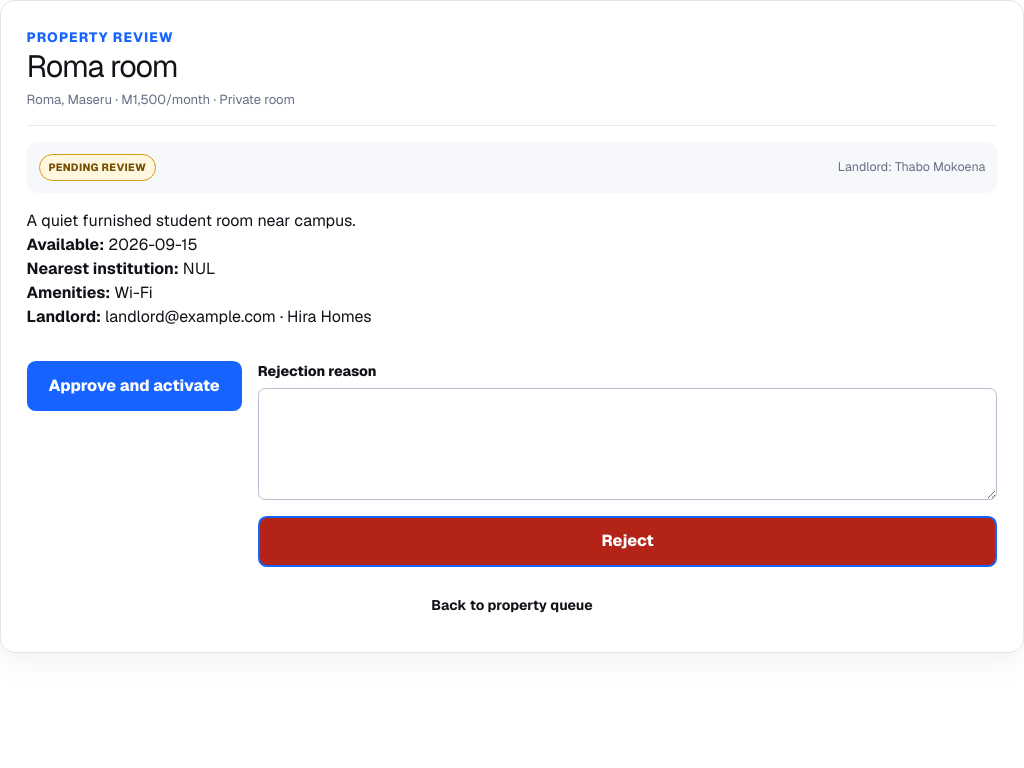
AdminPropertyReview › requires and sends a rejection reason
In the text box labelled "Rejection reason": (628, 444) left=258, top=388, right=997, bottom=500, type "Add clearer photos."
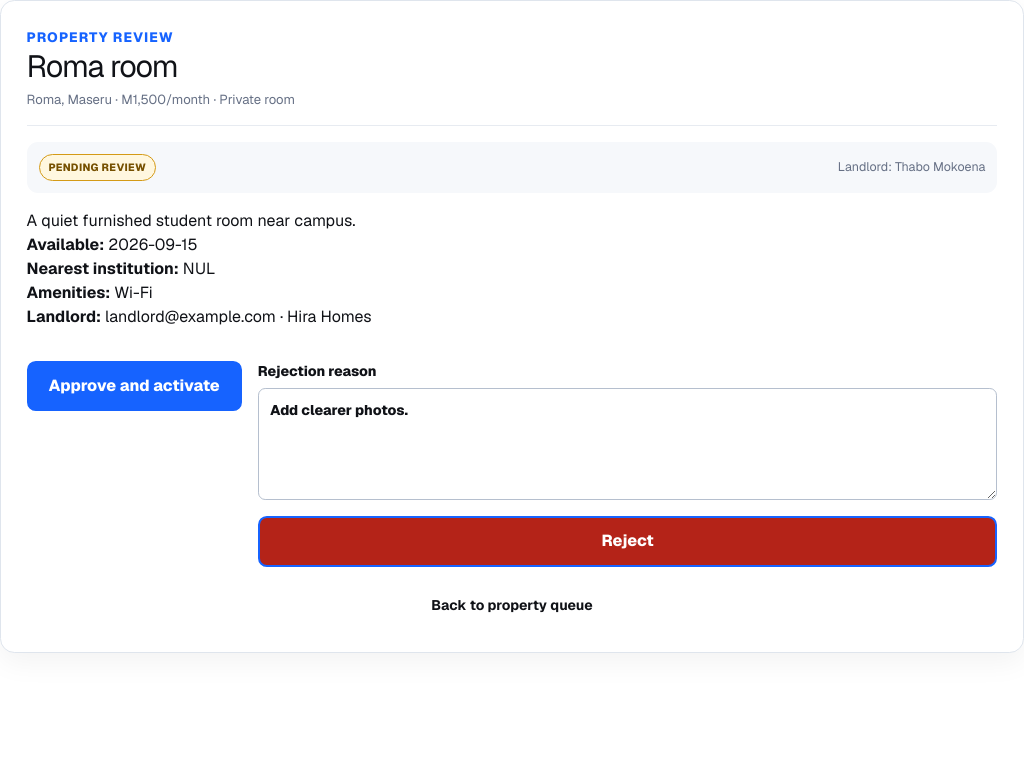
Click the button "Reject": (628, 541) left=258, top=516, right=997, bottom=567
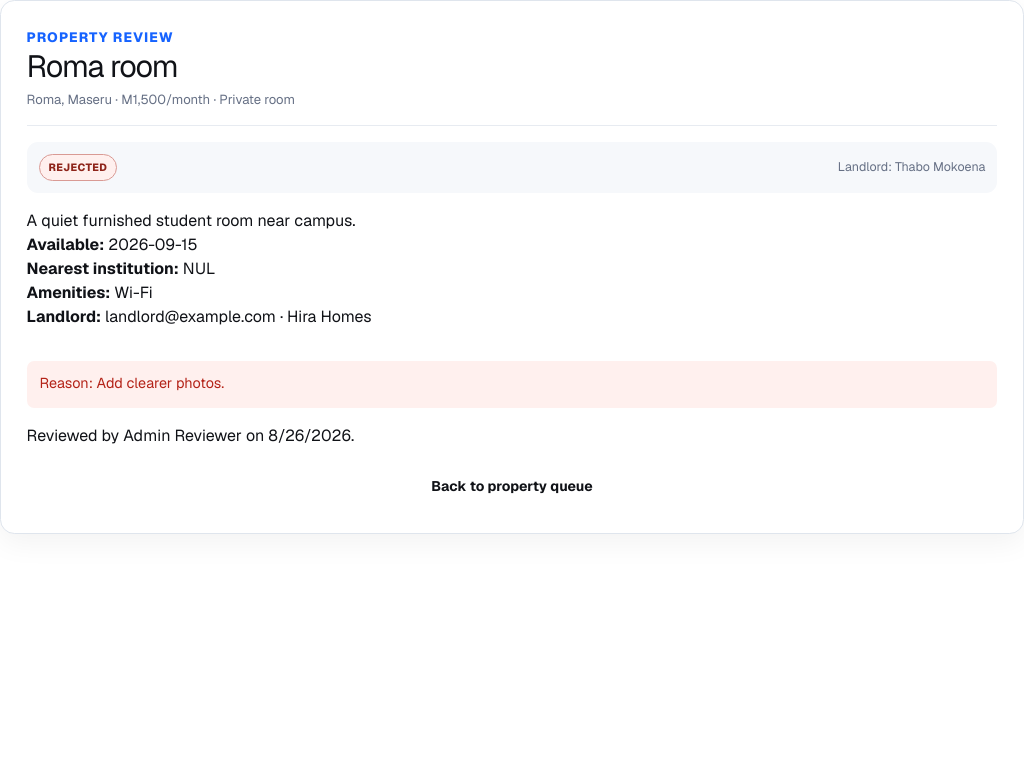
Result: the text "Reason: Add clearer photos." is shown at left=27, top=361, right=997, bottom=408
